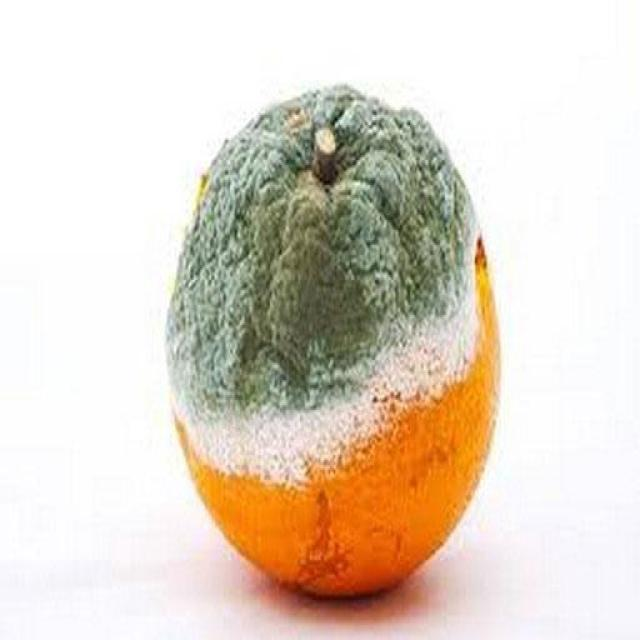organic: (164, 85, 502, 602)
